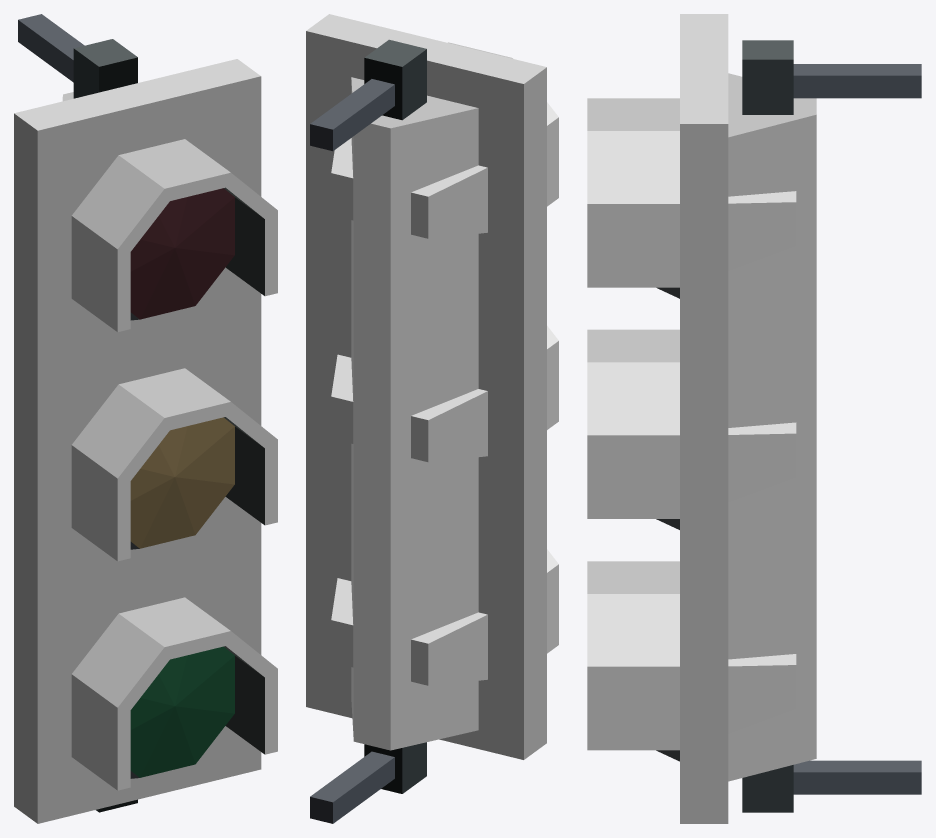
File: TB_CITY_Prop_TrafficLight_A_Whtie.FBX
3 views of the same model, side by side, from view 1: azimuth 30°, elevation 25°; view 2: azimuth 150°, elevation 25°; view 3: azimuth 270°, elevation 25° (orthographic). The views are drawn at different scales.
Parts seen in each view (by area): view 1: TB_CITY_Prop_TrafficLight_A_Whtie; view 2: TB_CITY_Prop_TrafficLight_A_Whtie; view 3: TB_CITY_Prop_TrafficLight_A_Whtie.
Part boxes in pixels (x1=…): TB_CITY_Prop_TrafficLight_A_Whtie: x1=14, y1=14, x2=277, y2=823; TB_CITY_Prop_TrafficLight_A_Whtie: x1=306, y1=14, x2=558, y2=823; TB_CITY_Prop_TrafficLight_A_Whtie: x1=587, y1=14, x2=921, y2=823.
Bounding box in the file's own units: 1.03 × 3.27 × 1.32.
